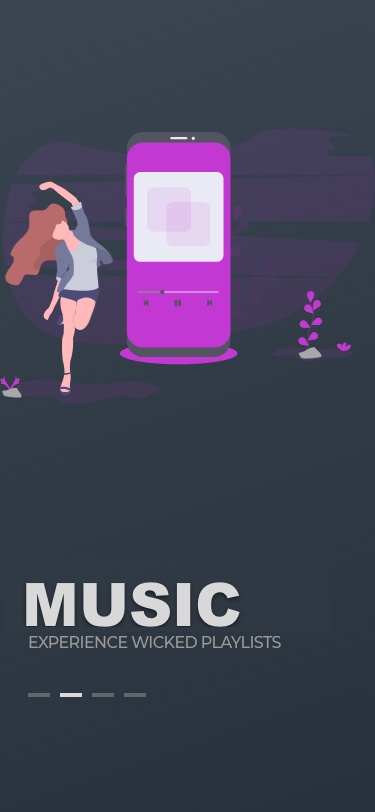Image: (1, 129, 375, 407)
PageIndicator: (28, 693, 147, 698)
Text: (27, 582, 241, 628), (30, 635, 282, 649)
